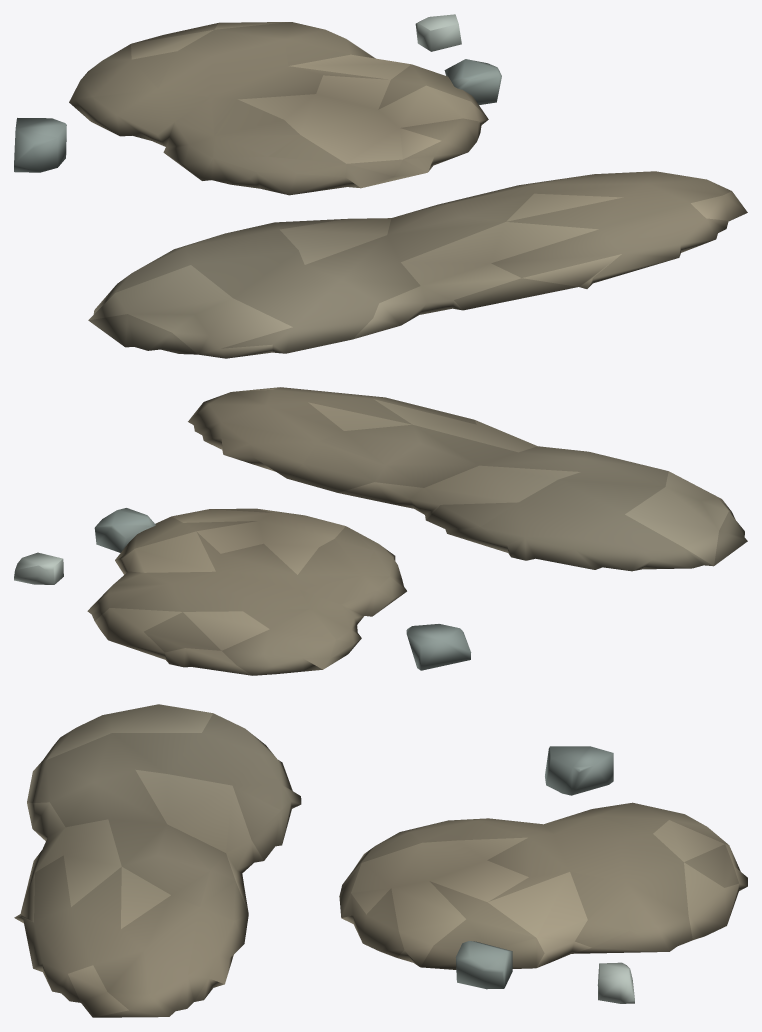
Rendered from grotto_gc_silt_a.glb.
The picture shows the model from 3 angles, top to bottom: view 1: azimuth 30°, elevation 25°; view 2: azimuth 150°, elevation 25°; view 3: azimuth 270°, elevation 25°; orthographic projection. The views are drawn at different scales.
Parts seen in each view (by area): view 1: grotto_gc_silt_a; view 2: grotto_gc_silt_a; view 3: grotto_gc_silt_a.
Part boxes in pixels (x1,y1,x2,y2): grotto_gc_silt_a: (14, 14, 747, 358); grotto_gc_silt_a: (14, 387, 747, 675); grotto_gc_silt_a: (14, 704, 747, 1017).
Size of the model in its own units: 3.71 by 0.228 by 3.79.
